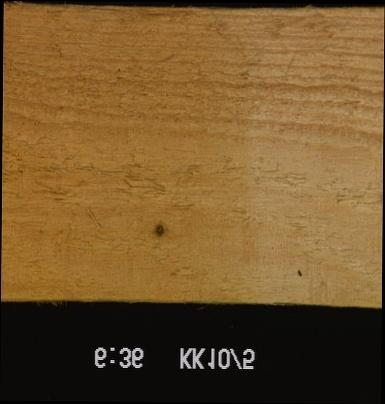small_knot: (151, 219, 166, 242), (292, 266, 304, 282)
